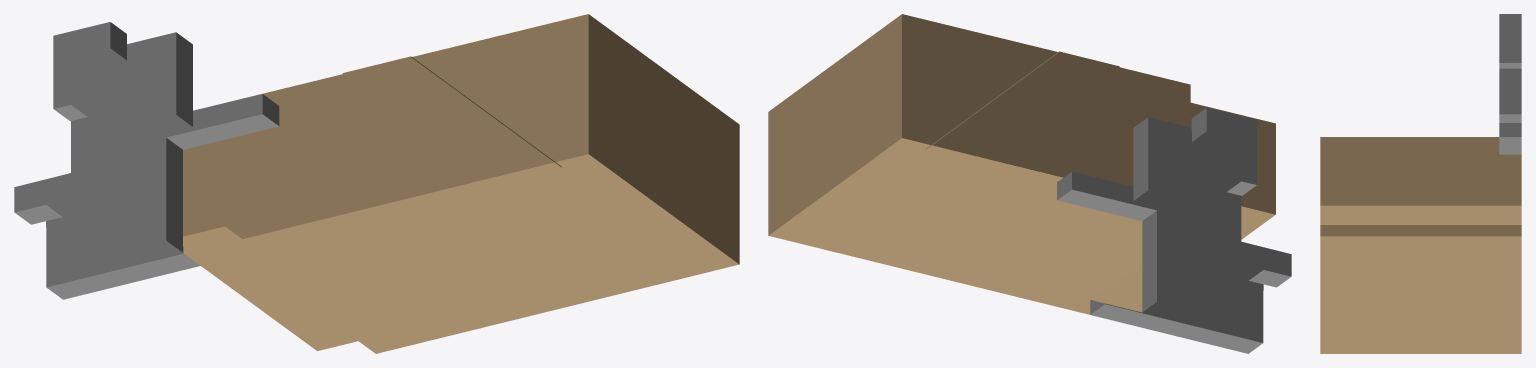
The picture shows the model from 3 angles, left to right: view 1: azimuth 30°, elevation 25°; view 2: azimuth 150°, elevation 25°; view 3: azimuth 270°, elevation 25°; orthographic projection. The views are drawn at different scales.
Parts seen in each view (by area): view 1: 0_0_3_1_3_2_3_1_3; view 2: 0_0_3_1_3_2_3_1_3; view 3: 0_0_3_1_3_2_3_1_3.
Part boxes in pixels (x1=…): 0_0_3_1_3_2_3_1_3: x1=14, y1=14, x2=739, y2=353; 0_0_3_1_3_2_3_1_3: x1=768, y1=14, x2=1291, y2=353; 0_0_3_1_3_2_3_1_3: x1=1320, y1=14, x2=1521, y2=353.
Size of the model in its own units: 59.29 by 24.68 by 27.
